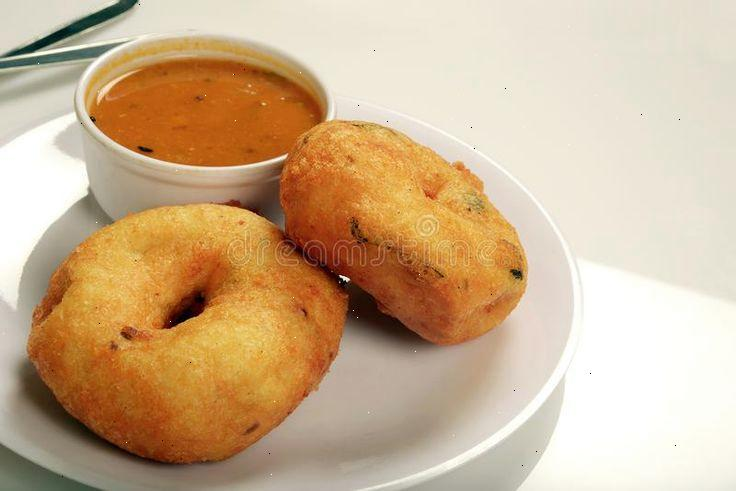medu vada: (32, 202, 344, 471), (292, 111, 533, 344)
sambhar: (92, 68, 323, 162)
